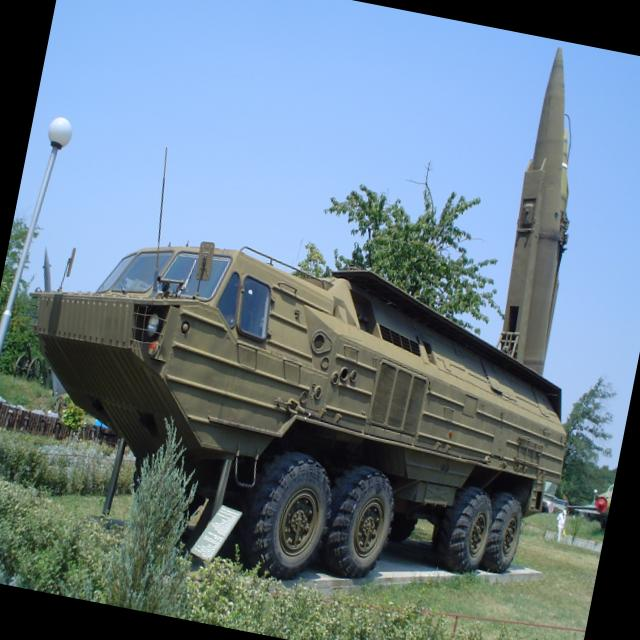rocket: (488, 42, 609, 369)
